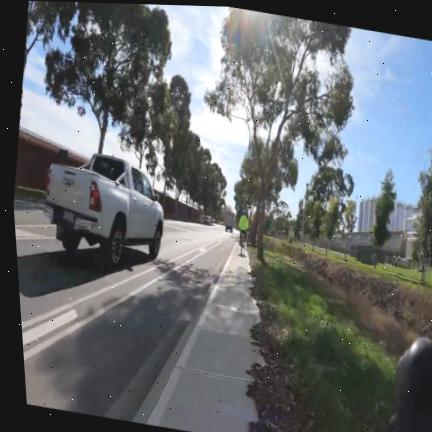Bike_Lane: (24, 242, 230, 421)
